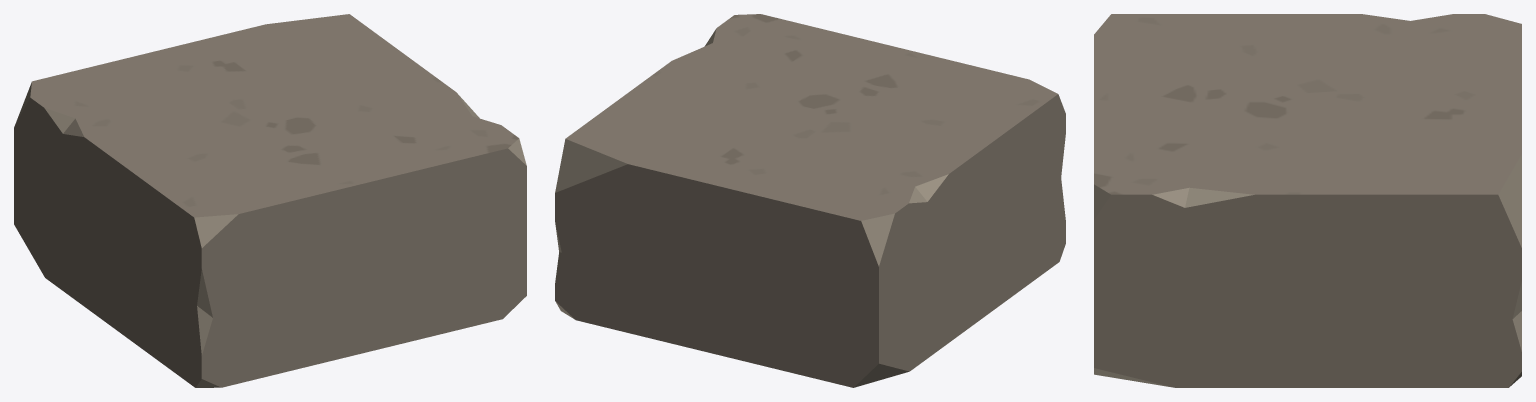
File: SM_Bld_Concrete_Pillar_Short_02.fbx
The picture shows the model from 3 angles, left to right: view 1: azimuth 30°, elevation 25°; view 2: azimuth 150°, elevation 25°; view 3: azimuth 270°, elevation 25°; orthographic projection. The views are drawn at different scales.
Visible parts, largest first — view 1: SM_Bld_Concrete_Pillar_Short_02; view 2: SM_Bld_Concrete_Pillar_Short_02; view 3: SM_Bld_Concrete_Pillar_Short_02.
Part boxes in pixels (left/top/right/bottom): SM_Bld_Concrete_Pillar_Short_02: left=14, top=14, right=526, bottom=387; SM_Bld_Concrete_Pillar_Short_02: left=555, top=14, right=1065, bottom=387; SM_Bld_Concrete_Pillar_Short_02: left=1094, top=14, right=1521, bottom=387.
Size of the model in its own units: 125 by 62.28 by 125.
